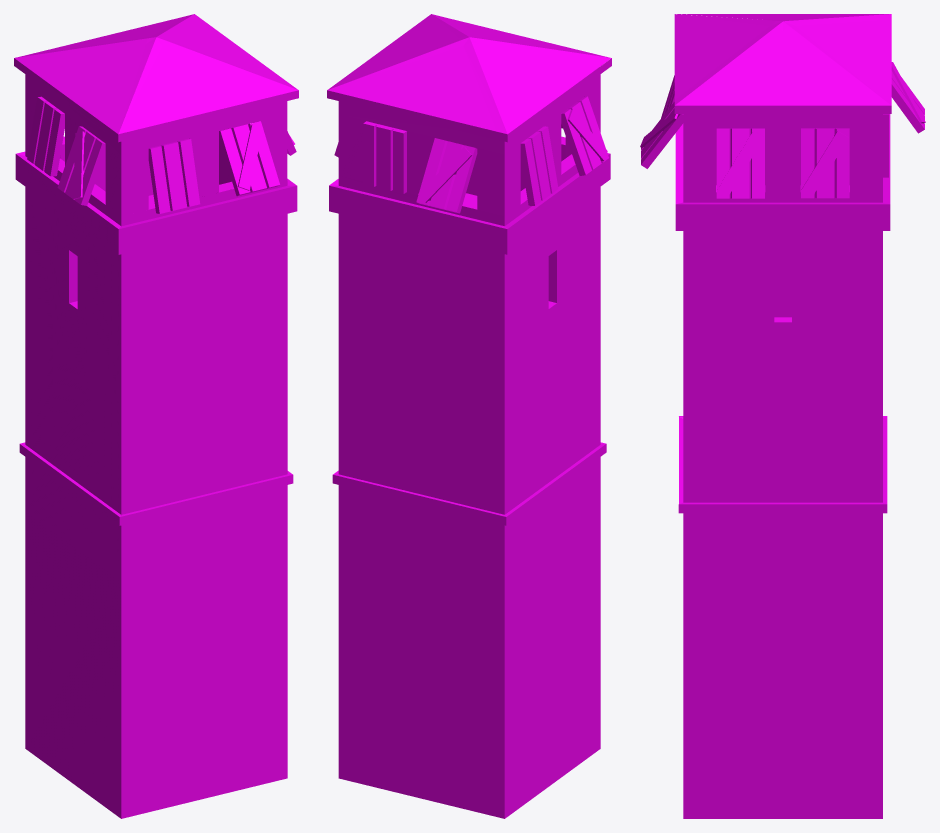
Rendered from athen_wall_tower.glb.
3 renders of one model, left to right at view 1: azimuth 30°, elevation 25°; view 2: azimuth 150°, elevation 25°; view 3: azimuth 270°, elevation 25°, orthographic. The views are drawn at different scales.
Parts seen in each view (by area): view 1: tower_props-mesh; view 2: tower_props-mesh; view 3: tower_props-mesh.
Part boxes in pixels (x1,y1,x2,y2): tower_props-mesh: [14, 14, 298, 818]; tower_props-mesh: [327, 14, 611, 818]; tower_props-mesh: [640, 14, 925, 818].
Bounding box in the file's own units: 9.32 × 29.62 × 10.16.
